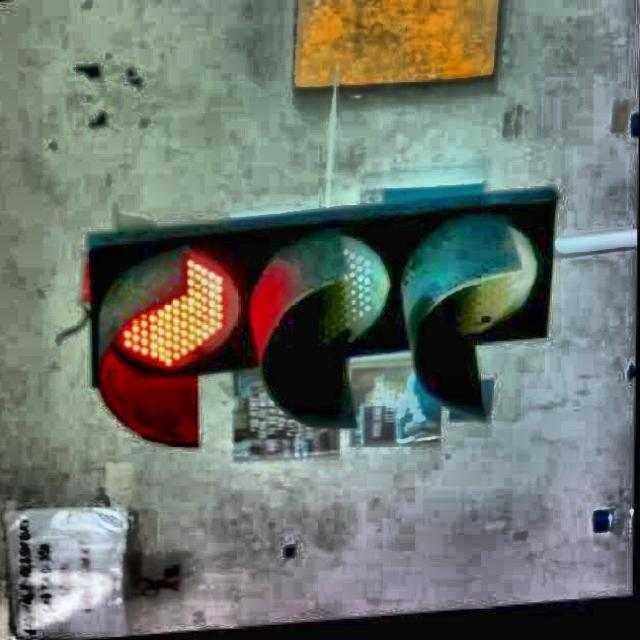red: (87, 194, 550, 352)
